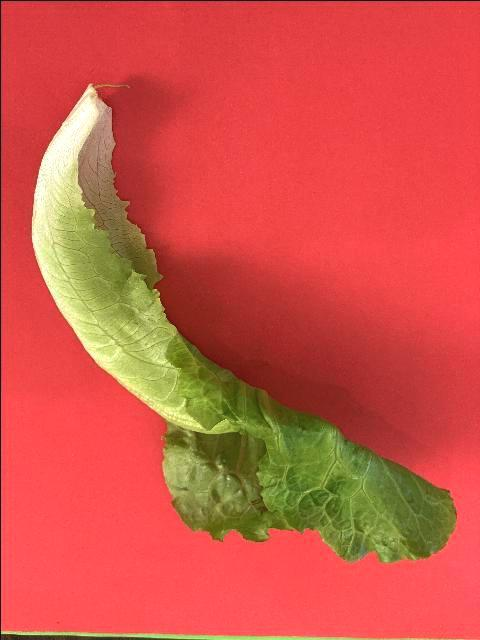lettuce: (27, 79, 457, 567)
